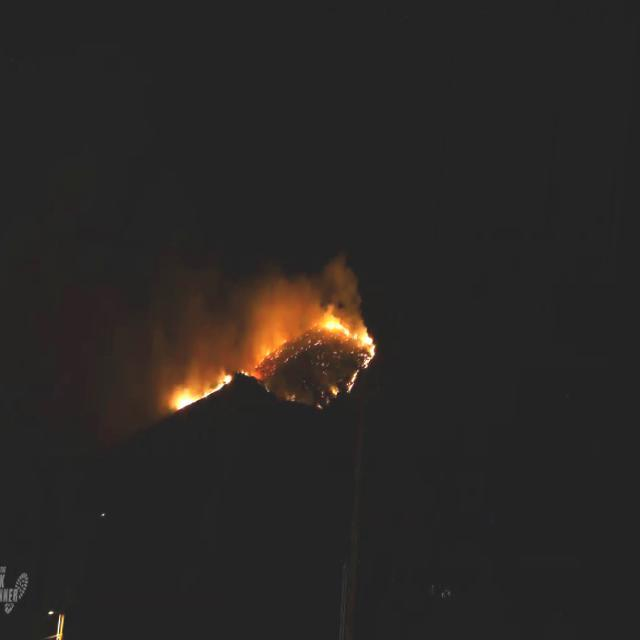Fire: (180, 372, 238, 409), (364, 326, 384, 369), (330, 311, 359, 336), (356, 369, 366, 391)
